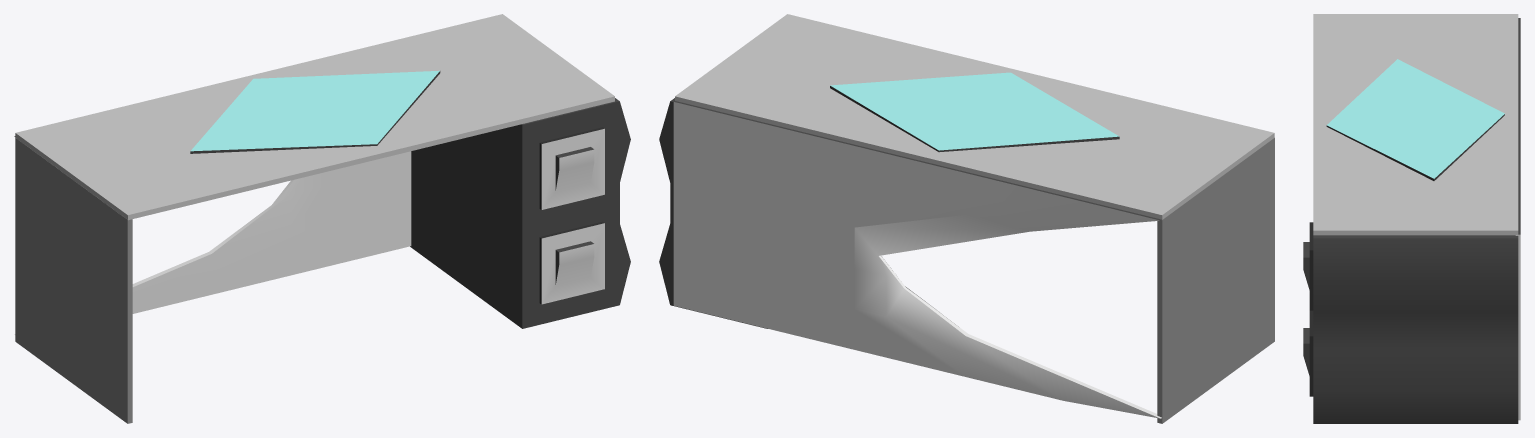
File: desk_2.fbx
3 renders of one model, left to right at view 1: azimuth 30°, elevation 25°; view 2: azimuth 150°, elevation 25°; view 3: azimuth 270°, elevation 25°, orthographic. The views are drawn at different scales.
Parts seen in each view (by area): view 1: desk_2; view 2: desk_2; view 3: desk_2.
Boxes of the visible parts, bbox=[...] form: desk_2: bbox=[14, 14, 630, 423]; desk_2: bbox=[659, 14, 1274, 423]; desk_2: bbox=[1303, 14, 1520, 423].
Size of the model in its own units: 516 by 210 by 212.
